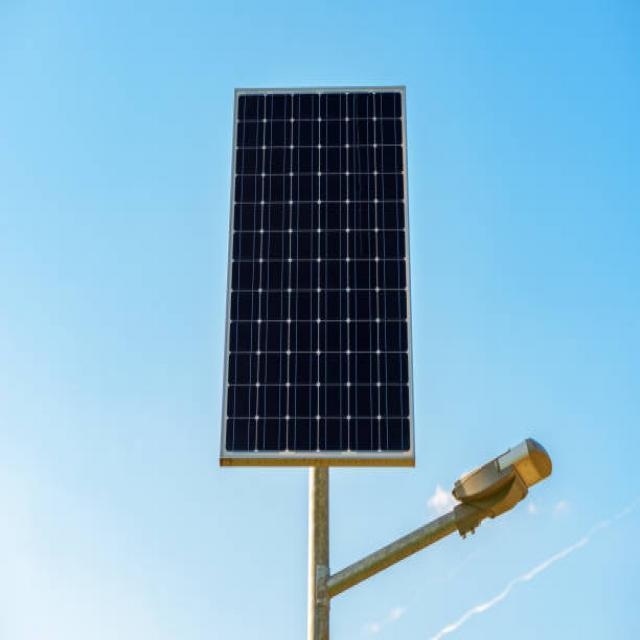no faulty: (221, 88, 412, 461)
